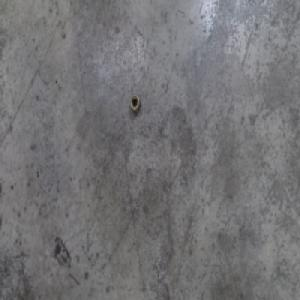Nut: (129, 93, 141, 115)
